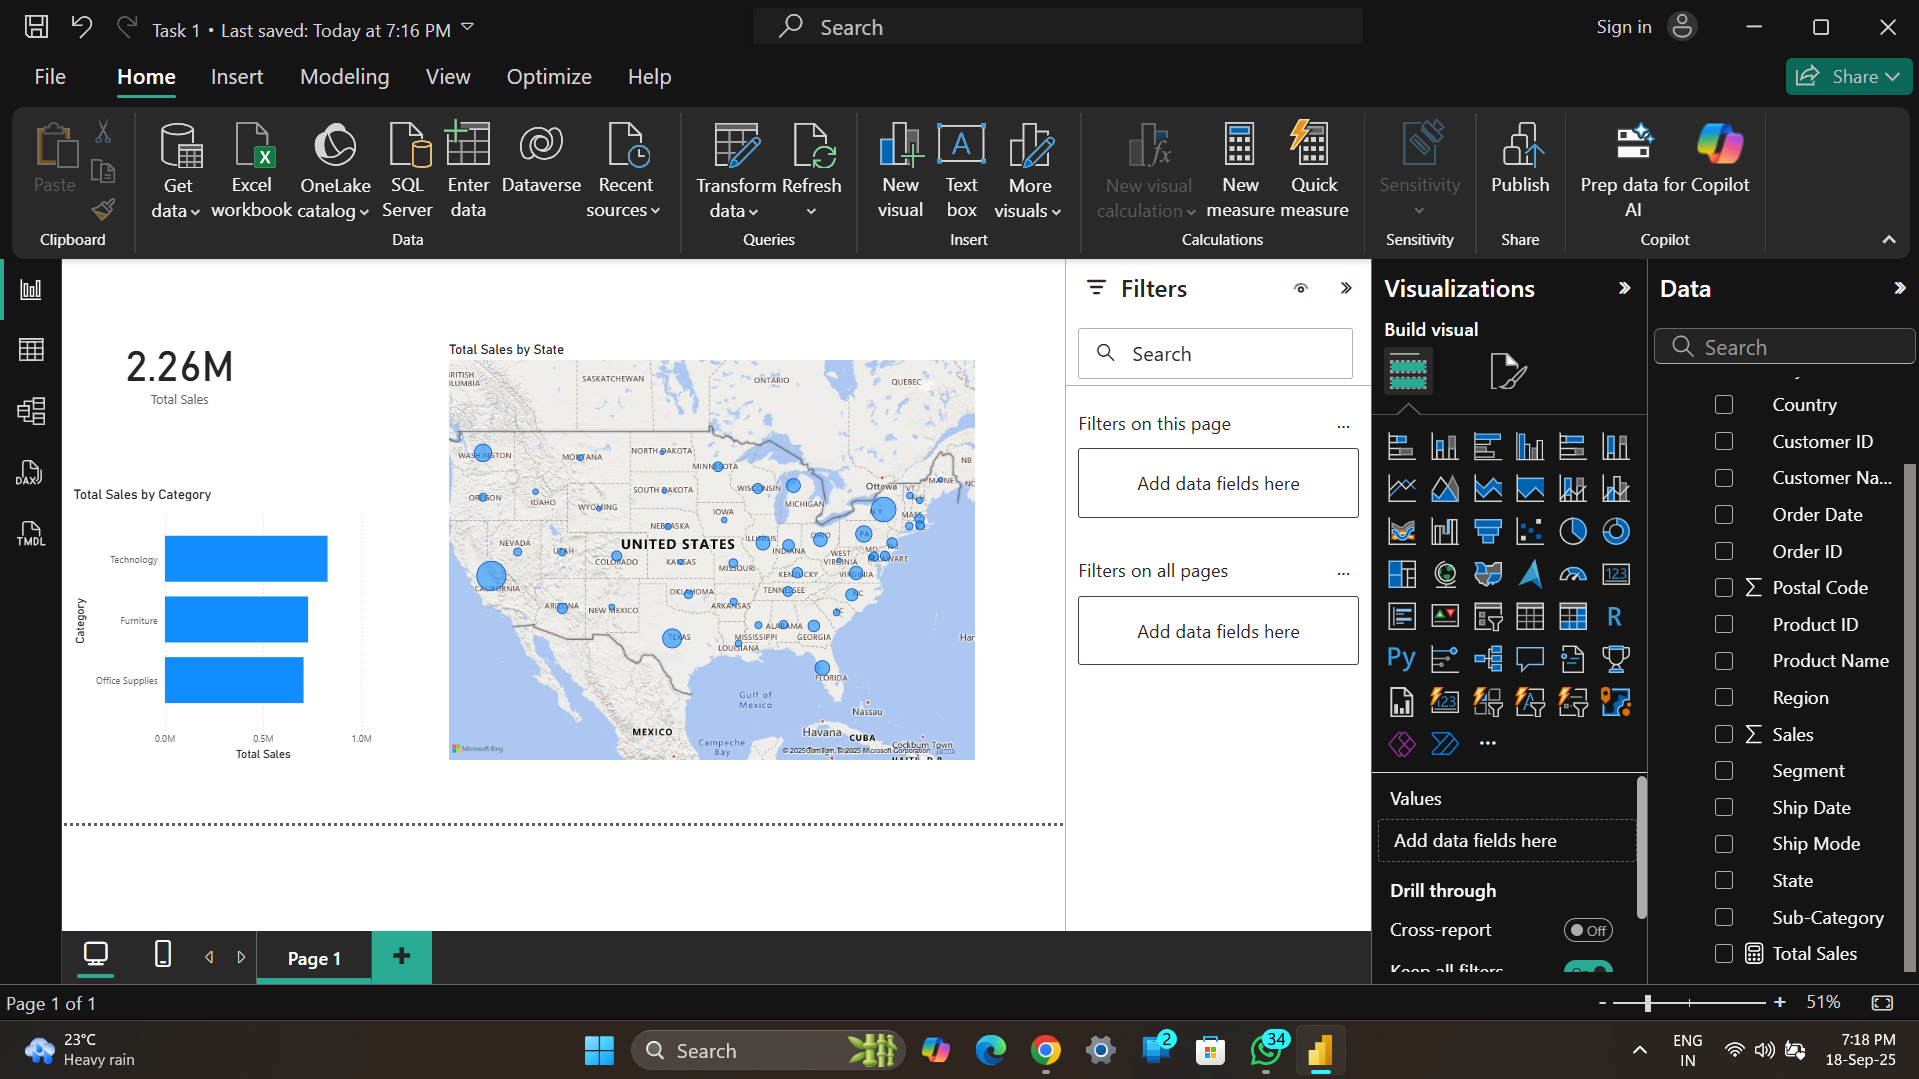

The page's visual inventory and layout, read from the dashboard file:
{"tool":"powerbi","page":{"name":"Page 1","canvas":[1280,720],"ordinal":0},"visuals":[{"type":"card","fields":{"Values":["train.Total Sales"]},"box":[10,0,280,280],"z":0},{"type":"clusteredBarChart","fields":{"Category":["train.Category"],"Y":["train.Total Sales"]},"box":[9.7,290,391.2,354.2],"z":1},{"type":"map","fields":{"Category":["train.State"],"Size":["train.Total Sales"]},"box":[488.5,105.1,681.2,539.1],"z":2}]}

Visuals, with their boxes on the page's 1280x720 design canvas (x1, y1, x2, y2). These are canvas units, not pixel positions in the 1919x1079 screenshot, which may show the page scaled, cropped or inside an application window:
card - train.Total Sales: <box>10,0,290,280</box>
clusteredBarChart - train.Category x train.Total Sales: <box>10,290,401,644</box>
map - train.State x train.Total Sales: <box>488,105,1170,644</box>
